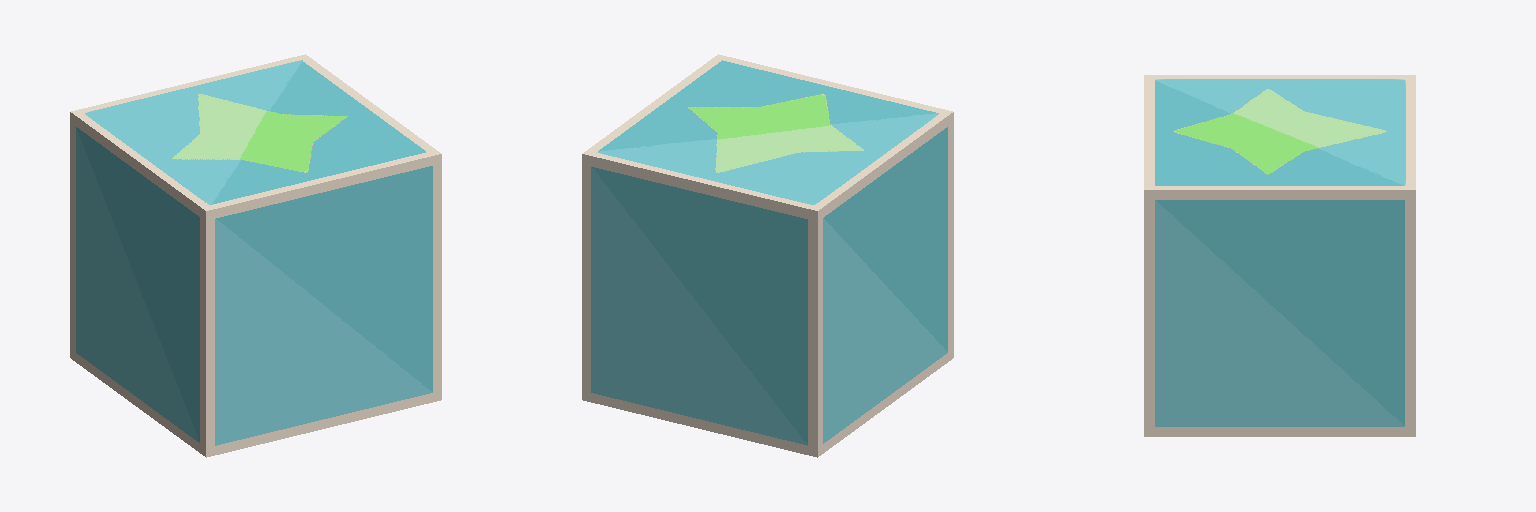
3 renders of one model, left to right at view 1: azimuth 30°, elevation 25°; view 2: azimuth 150°, elevation 25°; view 3: azimuth 270°, elevation 25°, orthographic.
Parts seen in each view (by area): view 1: Cube; view 2: Cube; view 3: Cube.
Part boxes in pixels (x1,y1,x2,y2): Cube: (70, 54, 441, 457); Cube: (582, 54, 953, 457); Cube: (1144, 75, 1415, 436).
Bounding box in the file's own units: 2 × 2 × 2.
Materials: 1 (1 with a texture image).